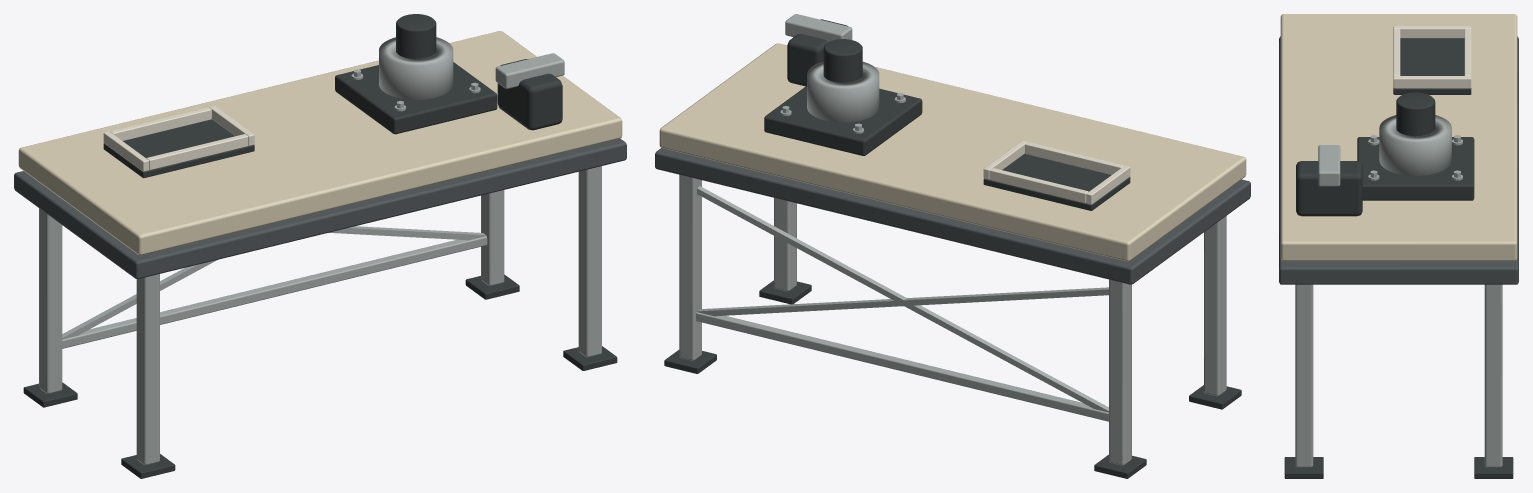
File: canal-boats-and-lock-operations-canal-boats-and-lock-o-7683e3cb__31655.glb
3 renders of one model, left to right at view 1: azimuth 30°, elevation 25°; view 2: azimuth 150°, elevation 25°; view 3: azimuth 270°, elevation 25°, orthographic. The views are drawn at different scales.
Visible parts, largest first — view 1: canal-boats-and-lock-operations-paddle-gear-service-bench; view 2: canal-boats-and-lock-operations-paddle-gear-service-bench; view 3: canal-boats-and-lock-operations-paddle-gear-service-bench.
Boxes of the visible parts, left/top/right/bottom form: canal-boats-and-lock-operations-paddle-gear-service-bench: left=14, top=14, right=626, bottom=478; canal-boats-and-lock-operations-paddle-gear-service-bench: left=655, top=14, right=1250, bottom=478; canal-boats-and-lock-operations-paddle-gear-service-bench: left=1279, top=14, right=1518, bottom=478.
Size of the model in its own units: 1.98 by 1.25 by 0.8601.
